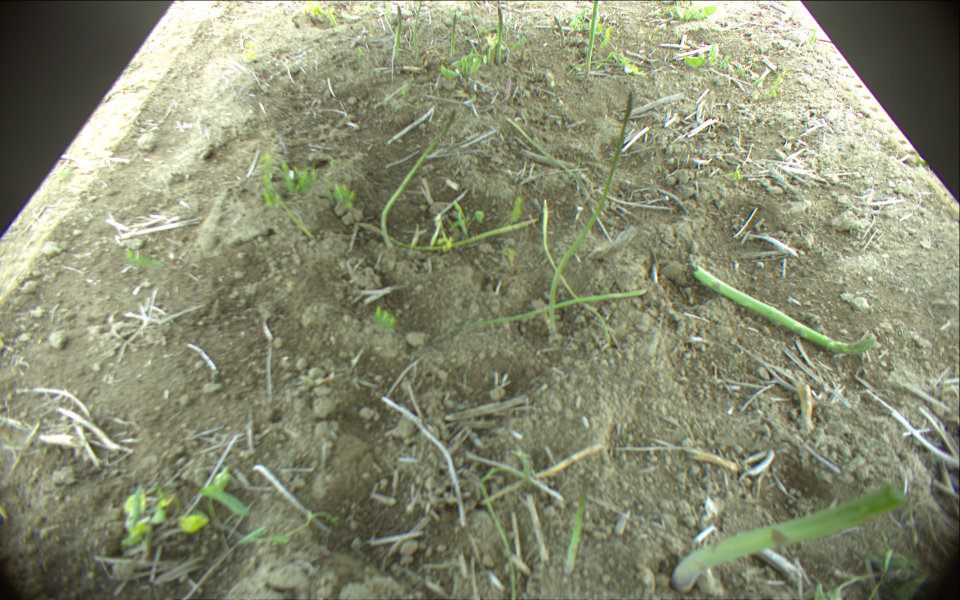aspa: (667, 482, 908, 590), (547, 92, 636, 330), (693, 266, 875, 353), (380, 108, 456, 253), (542, 201, 612, 345), (438, 291, 642, 334), (507, 118, 591, 201), (355, 217, 536, 251), (561, 473, 589, 577), (583, 1, 598, 81), (391, 5, 403, 73), (412, 1, 422, 60), (494, 6, 504, 62), (450, 9, 458, 57), (554, 15, 564, 45)
